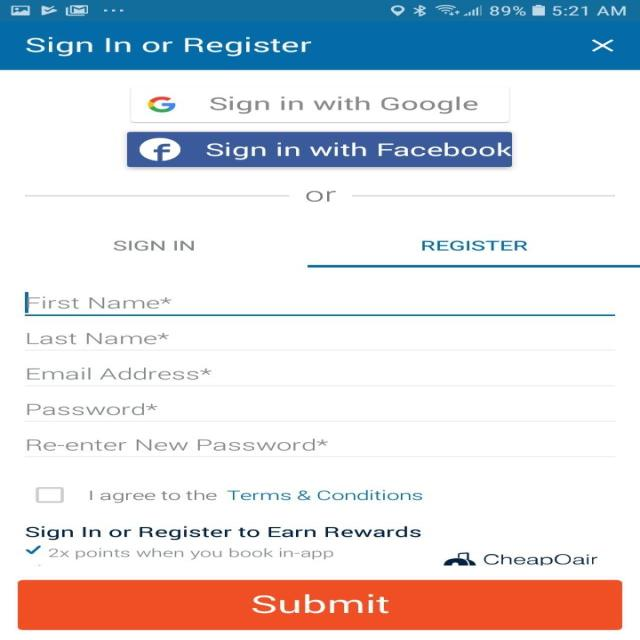EditText: (24, 291, 615, 316), (24, 366, 615, 386), (24, 402, 615, 422), (25, 332, 615, 351), (25, 438, 615, 457)
Icon: (590, 39, 614, 52), (25, 544, 42, 554)
Image: (442, 552, 476, 566)
Text: (25, 36, 311, 57), (24, 525, 420, 540), (89, 489, 422, 503), (27, 438, 328, 451), (48, 547, 334, 559), (25, 366, 212, 379), (27, 296, 172, 309), (27, 332, 169, 345), (26, 403, 158, 415), (482, 553, 598, 566), (421, 240, 527, 250), (113, 240, 194, 251), (304, 190, 337, 201)
TextButton: (18, 579, 622, 630), (130, 86, 510, 123), (127, 132, 512, 167)
